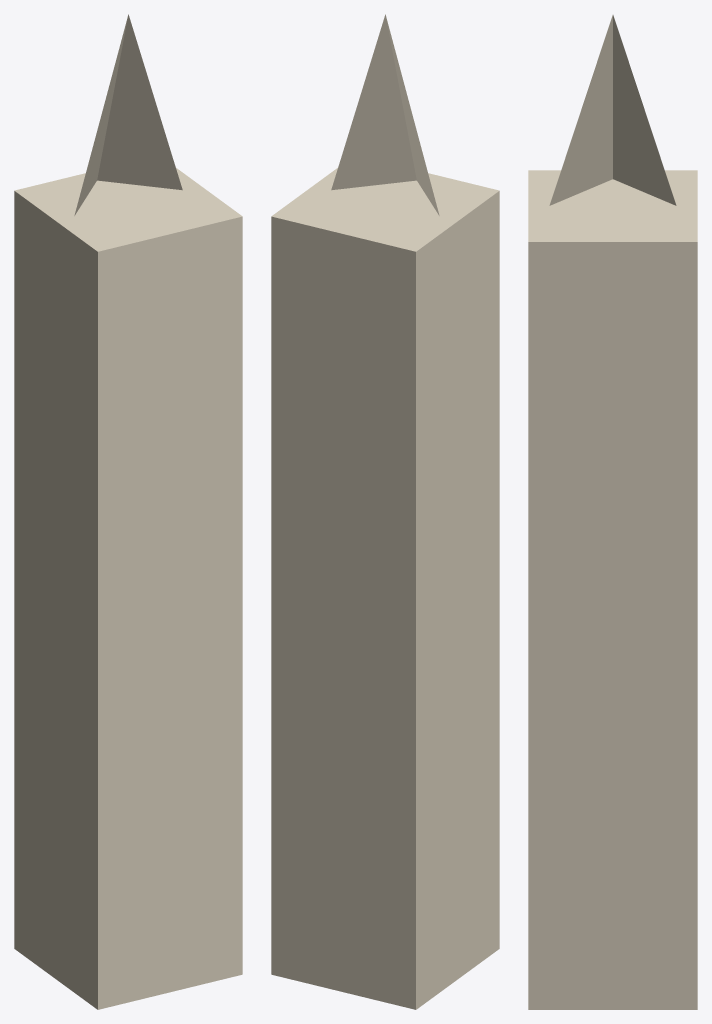
Rendered from big-ben.glb.
3 renders of one model, left to right at view 1: azimuth 30°, elevation 25°; view 2: azimuth 150°, elevation 25°; view 3: azimuth 270°, elevation 25°, orthographic.
Parts seen in each view (by area): view 1: big-ben; view 2: big-ben; view 3: big-ben.
Part boxes in pixels (x1,y1,x2,y2): big-ben: (14,14,242,1009); big-ben: (271,14,499,1009); big-ben: (528,15,697,1009).
Size of the model in its own units: 0.4 by 2.5 by 0.4.
